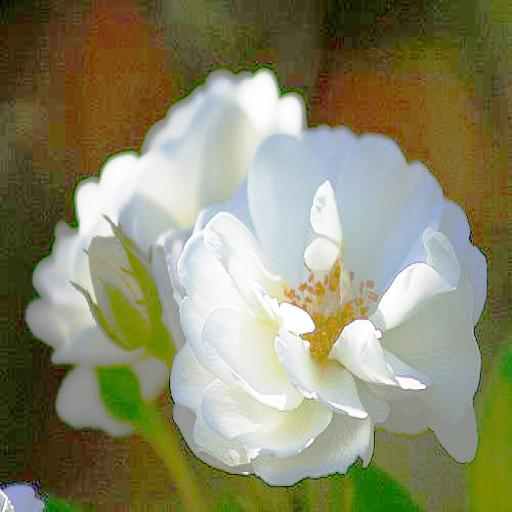rose: (171, 117, 484, 467)
